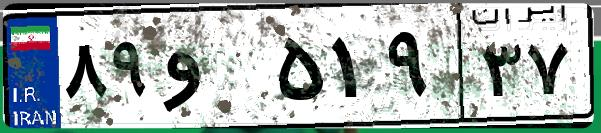1: (330, 28, 385, 110)
3: (475, 38, 525, 113)
5: (270, 28, 330, 110)
7: (525, 38, 570, 115)
8: (57, 26, 110, 100)
9: (385, 28, 445, 110), (110, 28, 158, 98)
و: (158, 20, 270, 120)
